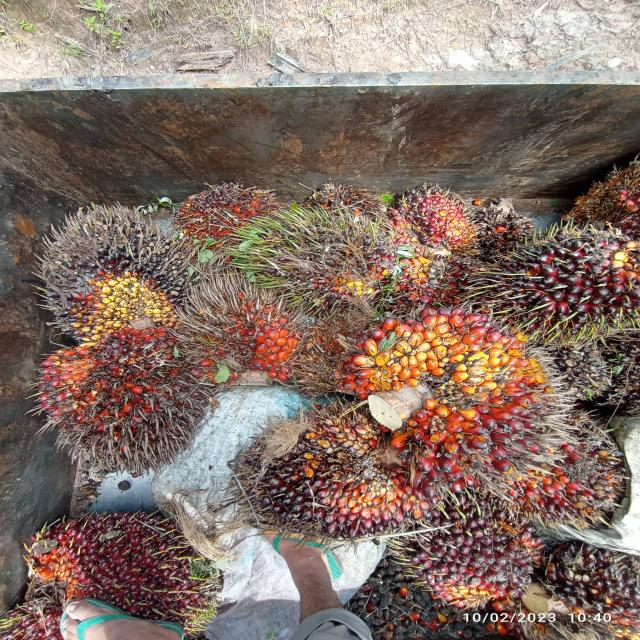fraksi 00: (228, 418, 426, 557), (27, 191, 204, 341), (226, 188, 418, 319)
fraksi 1: (512, 206, 640, 354), (412, 500, 540, 615)
fraksi 3: (335, 300, 575, 471), (8, 491, 270, 619)
fraksi 4: (38, 336, 218, 479), (176, 274, 318, 393)
